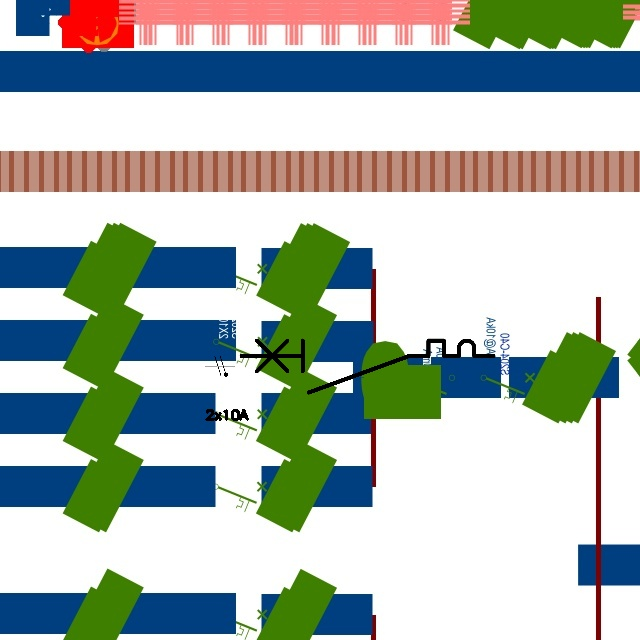interruptor_termomagnetico: (235, 334, 500, 399)
